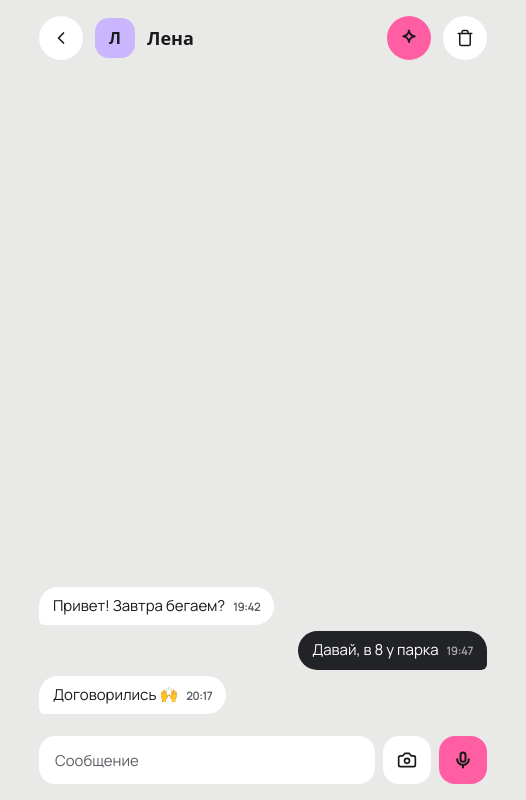
Chats (US-17) › deletes a chat for me only
This screenshot has width=526, height=800.
Click the button named "Удалить чат у себя". click: [465, 38]
box: [443,16,487,60]
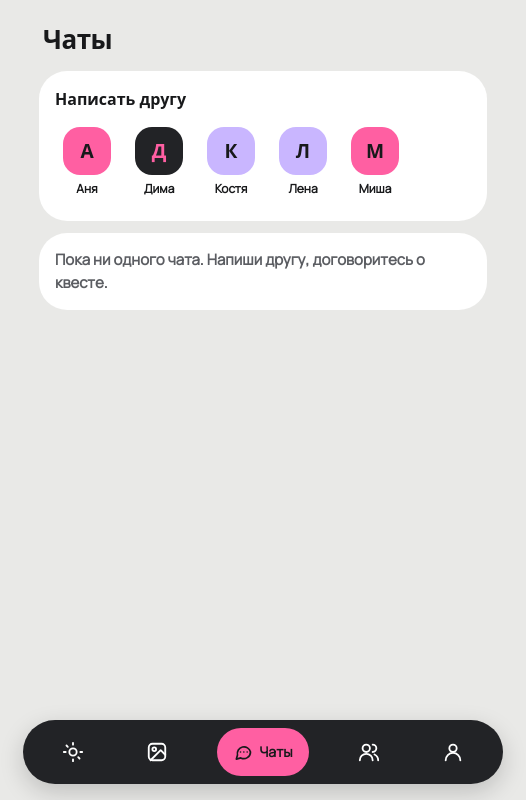
Now the heading "Чаты" is shown, box [43,20,112,59]
